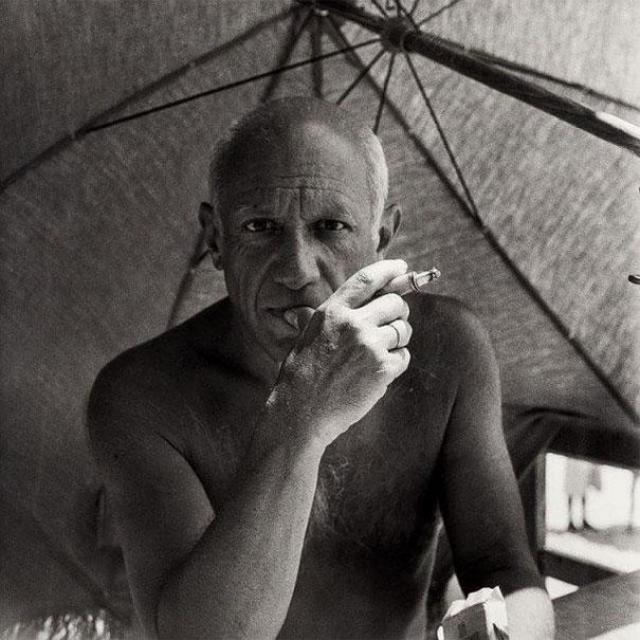cigarette: (350, 259, 449, 314)
